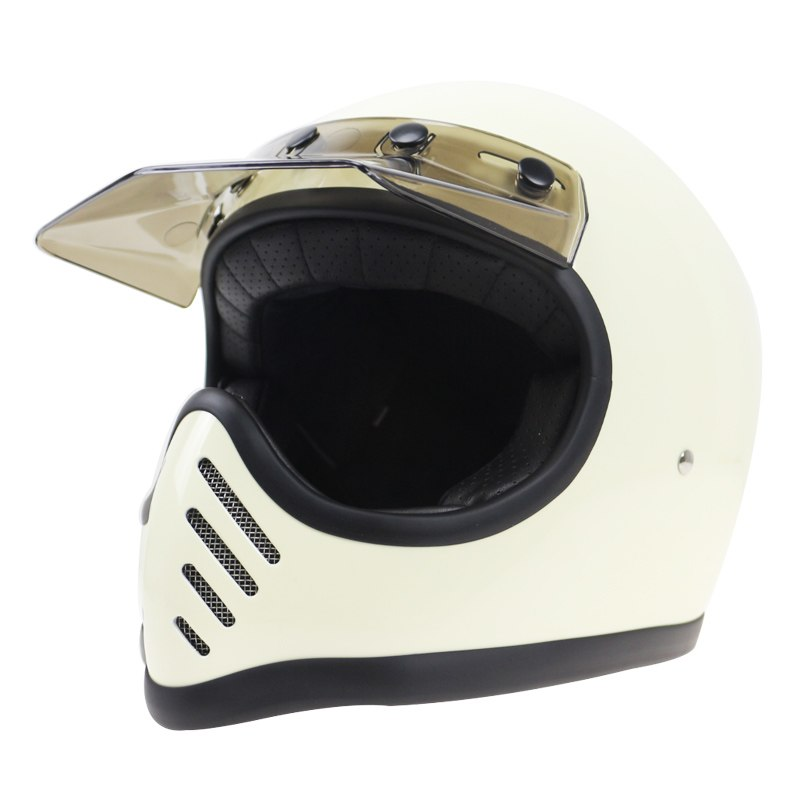with_helmet: (17, 83, 759, 717)
